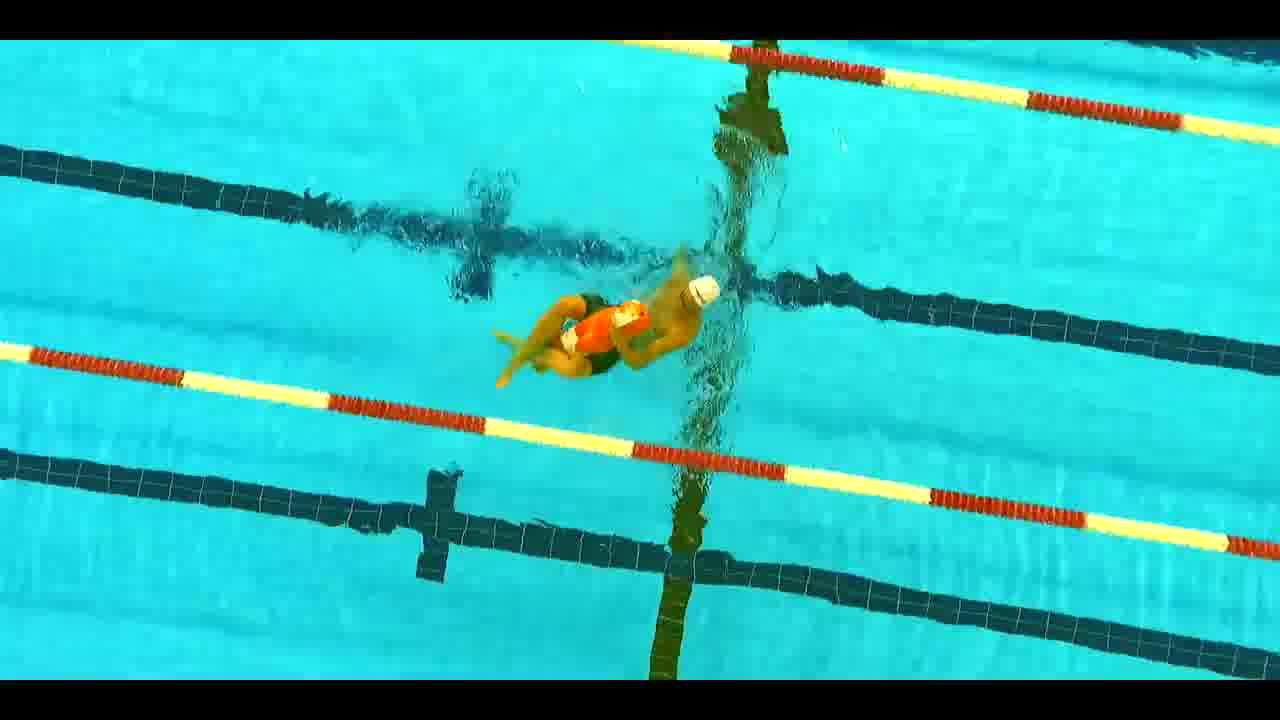swimmer: (484, 236, 732, 399)
